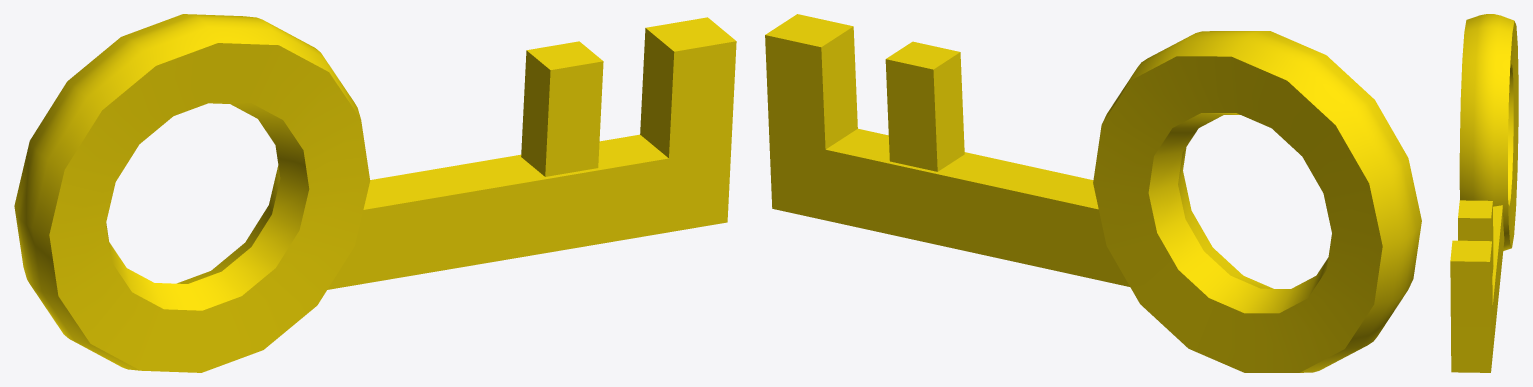
Rendered from Key.fbx.
The picture shows the model from 3 angles, left to right: view 1: azimuth 30°, elevation 25°; view 2: azimuth 150°, elevation 25°; view 3: azimuth 270°, elevation 25°; orthographic projection. The views are drawn at different scales.
Parts seen in each view (by area): view 1: Key; view 2: Key; view 3: Key.
Boxes of the visible parts, left/top/right/bottom form: Key: left=14, top=14, right=736, bottom=372; Key: left=765, top=14, right=1421, bottom=372; Key: left=1450, top=14, right=1518, bottom=372.
Bounding box in the file's own units: 158 × 76.73 × 21.75.
